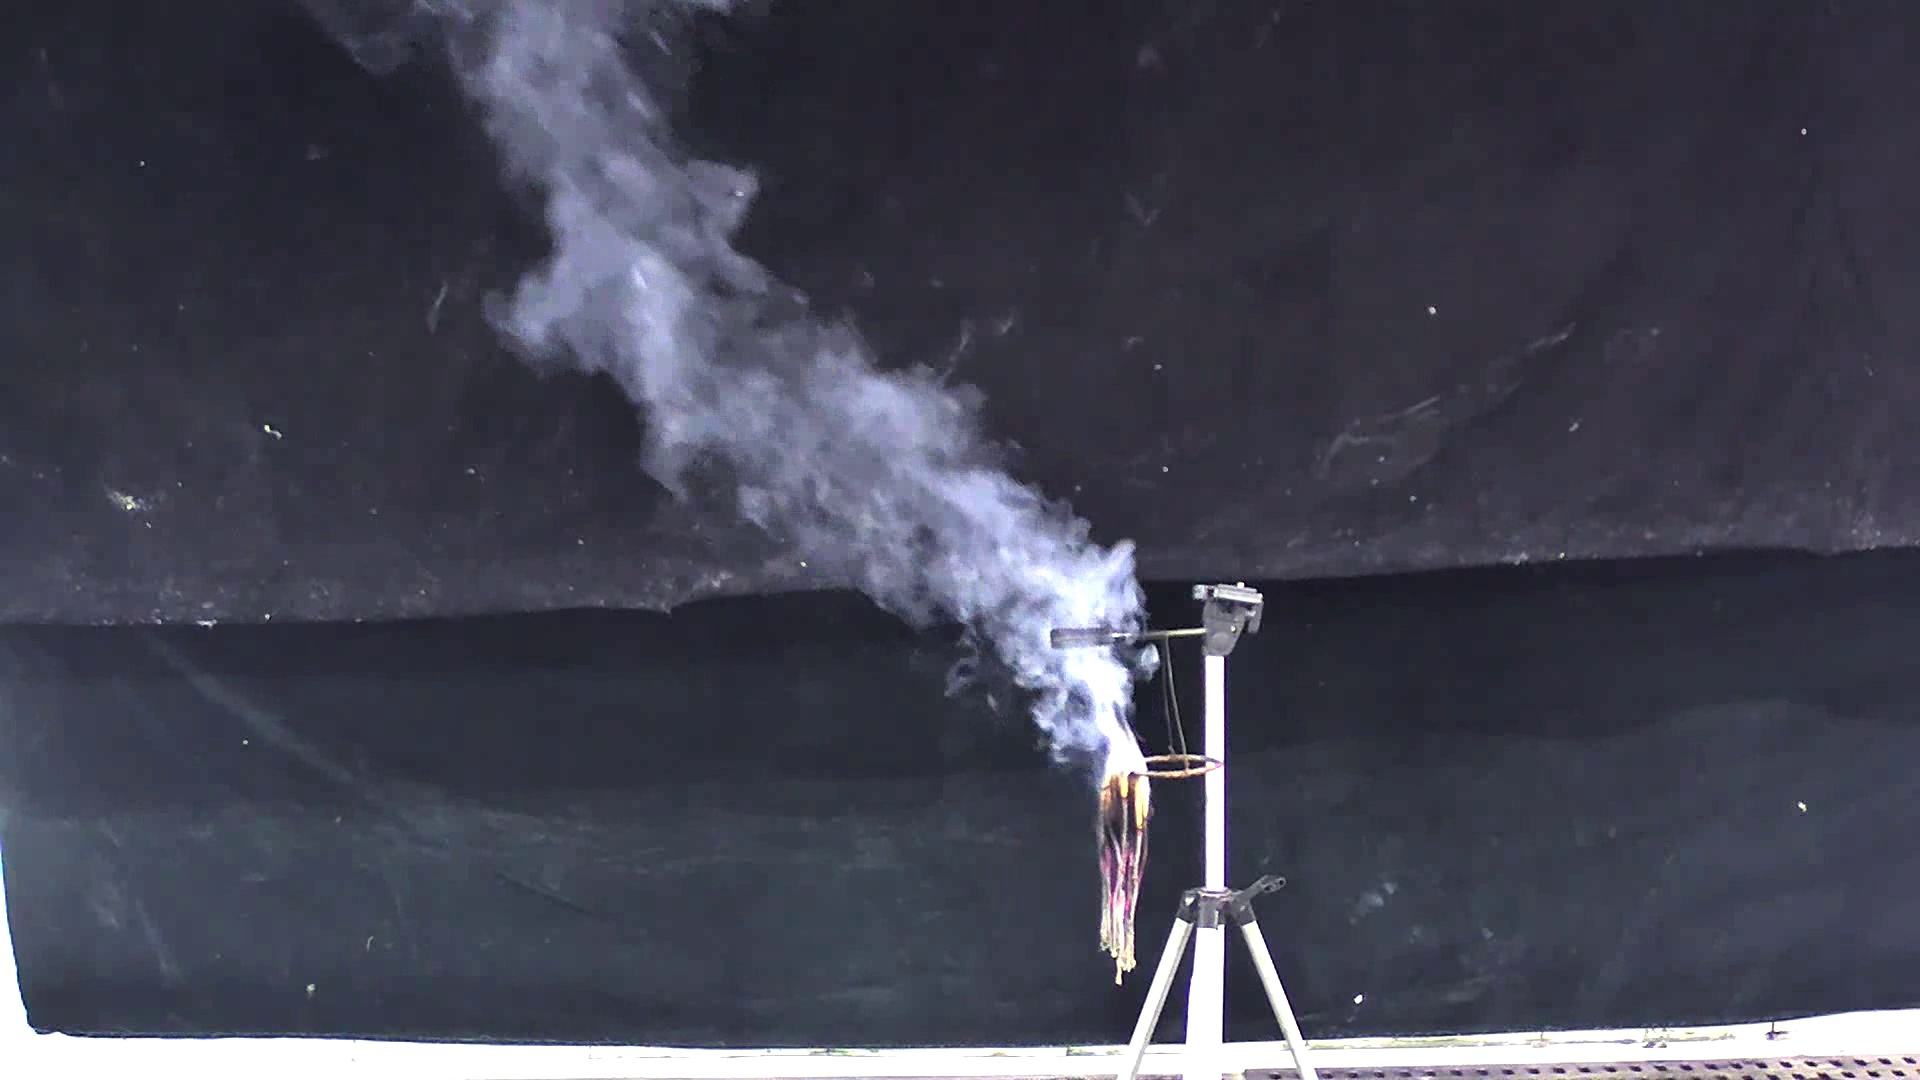smoke: (431, 18, 1160, 782)
